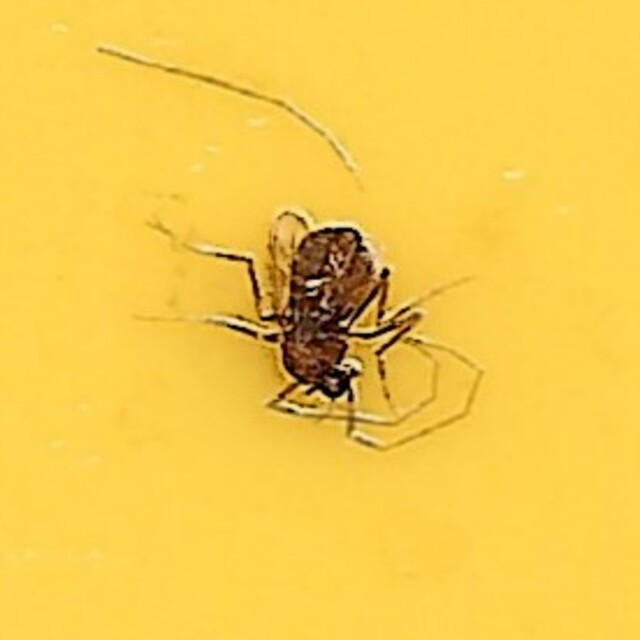Nematocera: (232, 207, 408, 433)
